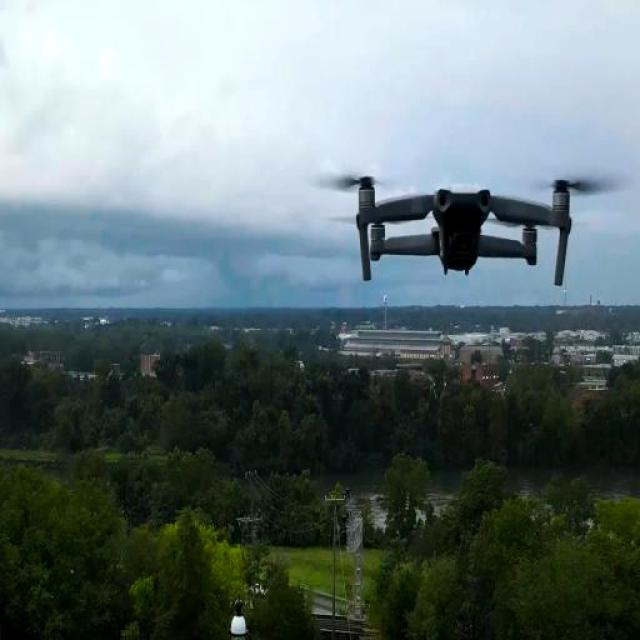bird: (300, 151, 640, 288)
